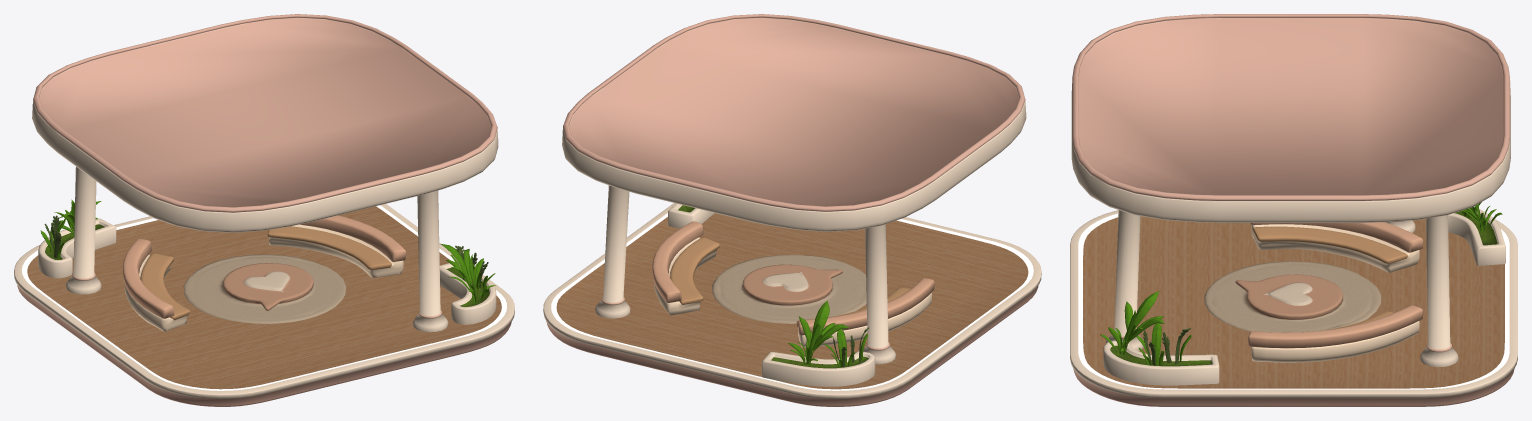
The model's file is social_quest.glb.
3 views of the same model, side by side, from view 1: azimuth 30°, elevation 25°; view 2: azimuth 150°, elevation 25°; view 3: azimuth 270°, elevation 25° (orthographic). The views are drawn at different scales.
Visible parts, largest first — view 1: zona_quest, logo, sillon, columnas, jardinera, plantas; view 2: zona_quest, logo, sillon, columnas, jardinera, plantas; view 3: zona_quest, sillon, logo, columnas, jardinera, plantas.
Boxes of the visible parts, x1,y1,x2,y2 form: zona_quest: (14, 14, 514, 406); logo: (183, 254, 346, 323); sillon: (122, 215, 406, 331); columnas: (66, 166, 448, 332); jardinera: (38, 218, 496, 324); plantas: (40, 199, 495, 303); zona_quest: (543, 14, 1041, 406); logo: (712, 255, 866, 323); sillon: (652, 221, 934, 347); columnas: (595, 185, 895, 364); jardinera: (668, 203, 875, 386); plantas: (788, 300, 869, 367); zona_quest: (1070, 14, 1517, 406); sillon: (1248, 222, 1423, 362); logo: (1204, 261, 1381, 332); columnas: (1106, 210, 1458, 367); jardinera: (1103, 209, 1505, 385); plantas: (1100, 202, 1502, 366).
Size of what is drawn, in the model's own units: 16.28 by 8.38 by 16.28.
12 materials, 10 textured.
